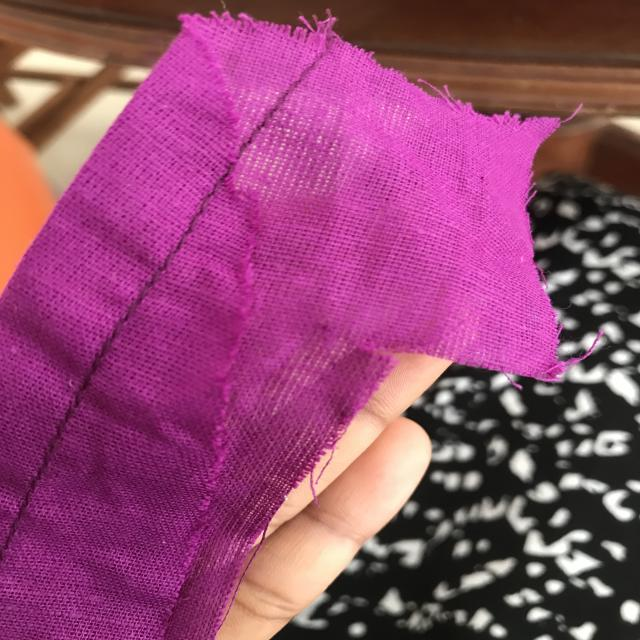good: (152, 196, 208, 291)
